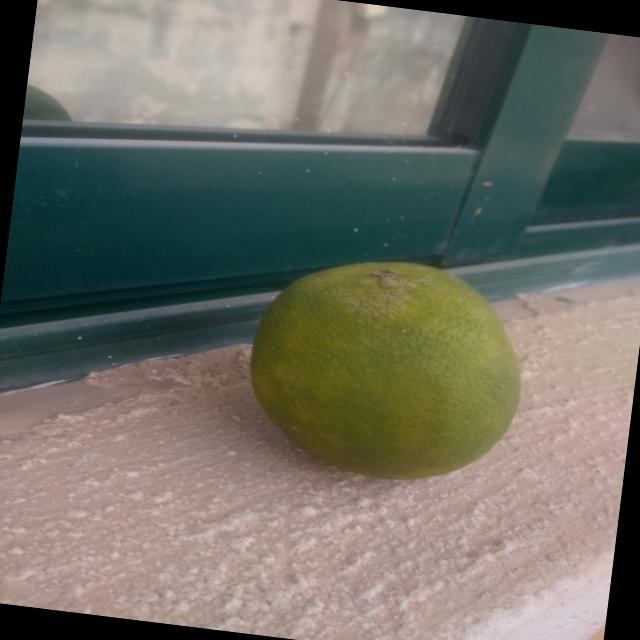agrume: (213, 223, 547, 509)
